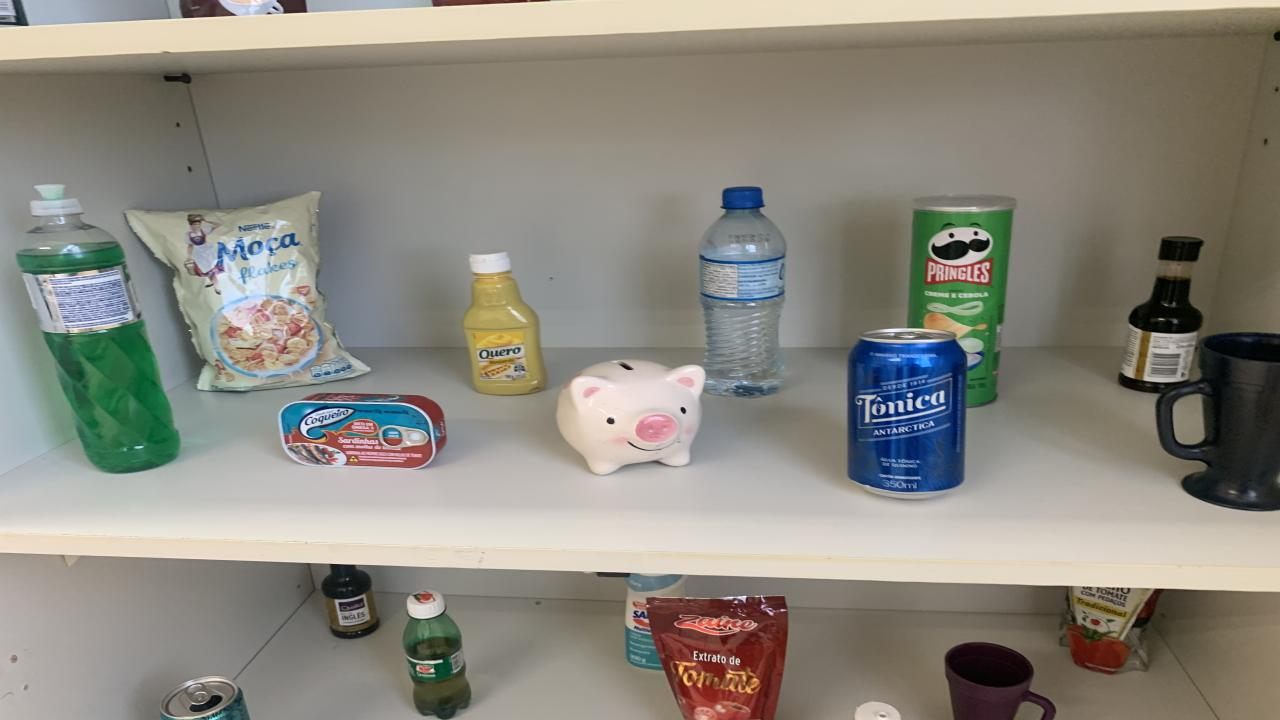Cleaner-Cleanup_Items: (625, 574, 685, 669)
Detergent-Cleanup_Items: (18, 186, 180, 472)
English_Sauce-Pantry_Items: (1118, 236, 1202, 392), (320, 564, 380, 638)
Flakes-Snacks: (125, 191, 370, 390)
Guarana-Drinks: (402, 591, 470, 718)
Mustard-Pantry_Items: (462, 251, 548, 396), (855, 701, 900, 720)
Pig_Safe-Miscellaneous: (555, 360, 705, 474)
Pringles-Snacks: (908, 195, 1018, 407)
Tea-Drinks: (160, 677, 250, 720)
Tomato_Sauce-Pantry_Items: (645, 596, 788, 720), (1060, 587, 1162, 673)
Tonic-Drinks: (848, 328, 968, 499)
Tuna_Can-Pantry_Items: (278, 394, 445, 469)
Water_Bottle-Drinks: (700, 188, 785, 398)
